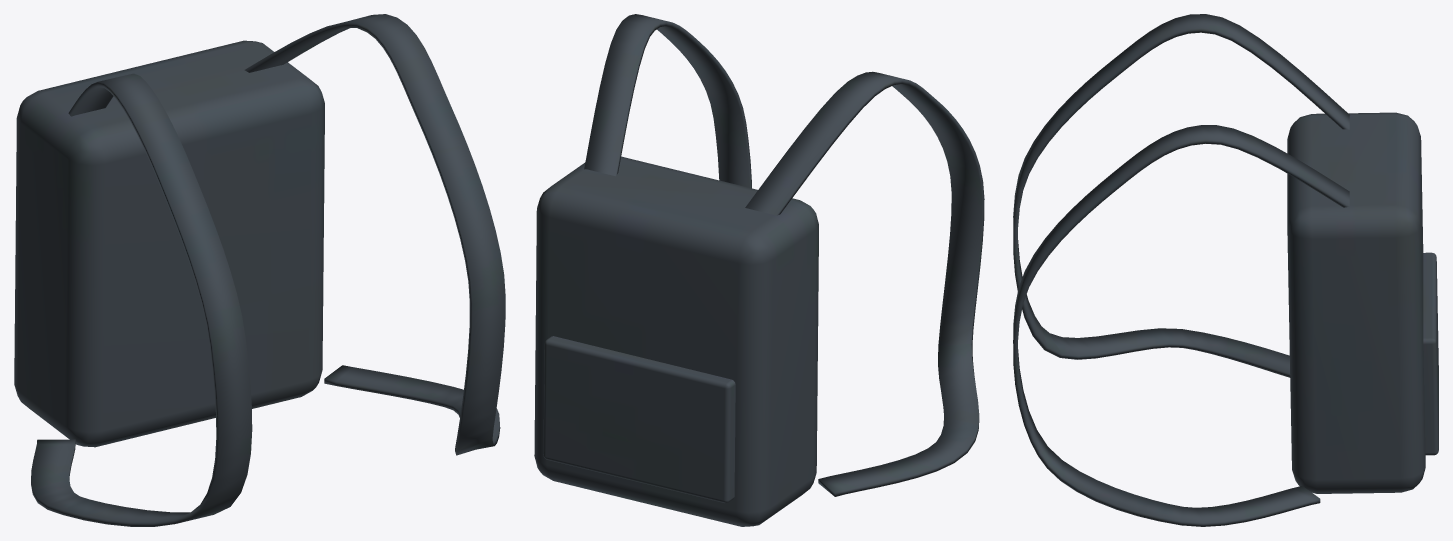
File: backpack.glb
3 views of the same model, side by side, from view 1: azimuth 30°, elevation 25°; view 2: azimuth 150°, elevation 25°; view 3: azimuth 270°, elevation 25° (orthographic). The views are drawn at different scales.
Visible parts, largest first — view 1: Backpack outer pocket; view 2: Backpack outer pocket; view 3: Backpack outer pocket.
Part boxes in pixels (box(x1,y1,x2,y2)): Backpack outer pocket: box(14, 14, 505, 526); Backpack outer pocket: box(534, 14, 984, 526); Backpack outer pocket: box(1013, 14, 1438, 526).
Size of the model in its own units: 0.4585 by 0.4118 by 0.4293.
1 material, 1 textured.
